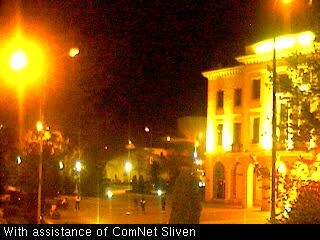person: (73, 189, 82, 209), (159, 196, 167, 213), (139, 196, 146, 213), (133, 196, 138, 212)
